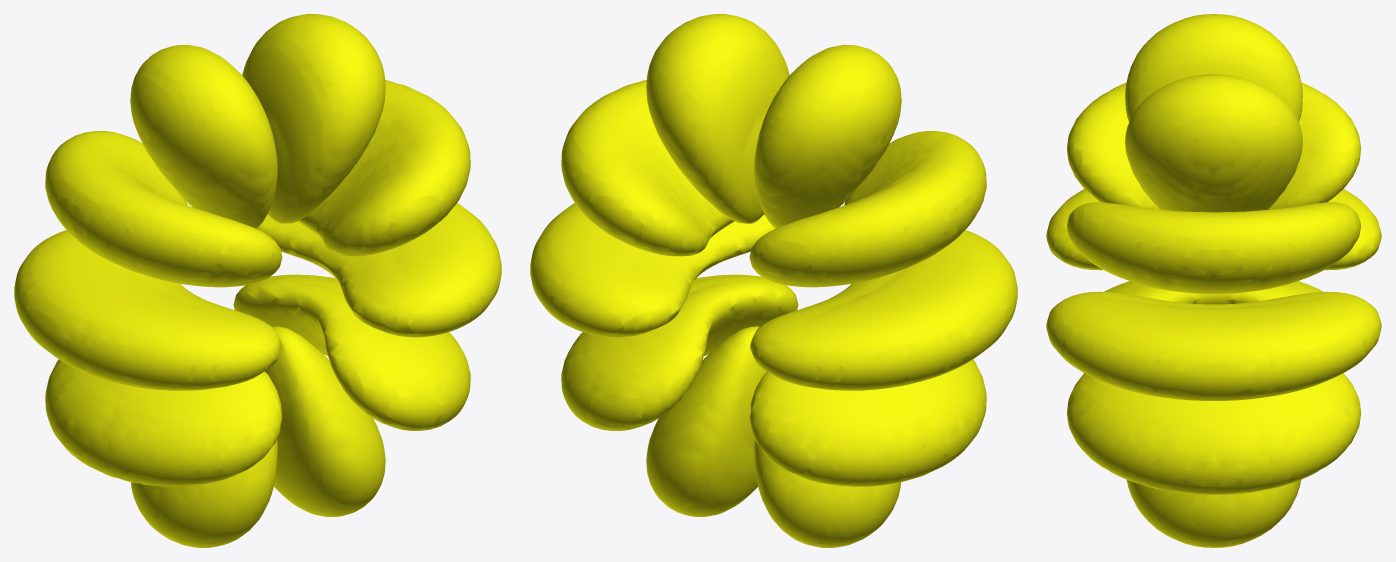
The model's file is orb_n=6_ l=5 _m=1.fbx.
3 views of the same model, side by side, from view 1: azimuth 30°, elevation 25°; view 2: azimuth 150°, elevation 25°; view 3: azimuth 270°, elevation 25° (orthographic). The views are drawn at different scales.
Visible parts, largest first — view 1: orb_n=6_ l=5 _m=1; view 2: orb_n=6_ l=5 _m=1; view 3: orb_n=6_ l=5 _m=1.
Boxes of the visible parts, x1,y1,x2,y2 form: orb_n=6_ l=5 _m=1: [14, 14, 501, 547]; orb_n=6_ l=5 _m=1: [530, 14, 1017, 547]; orb_n=6_ l=5 _m=1: [1046, 14, 1381, 547].
Size of the model in its own units: 12291 by 13118 by 8593.
